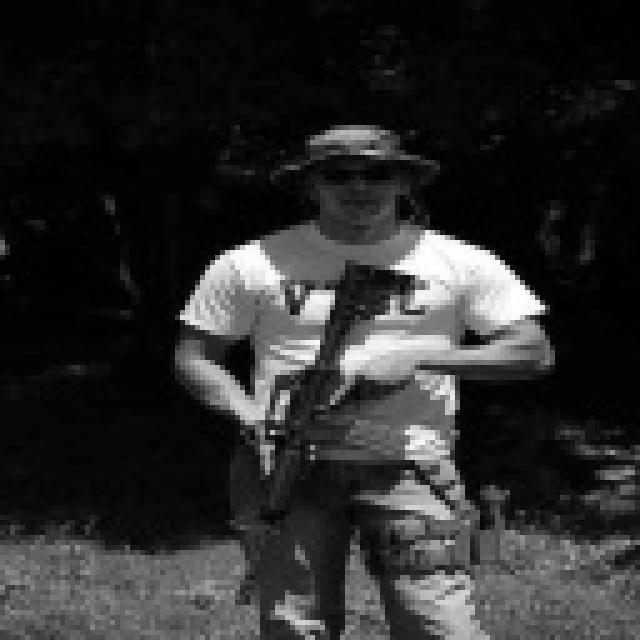Rifle: (218, 260, 472, 638)
